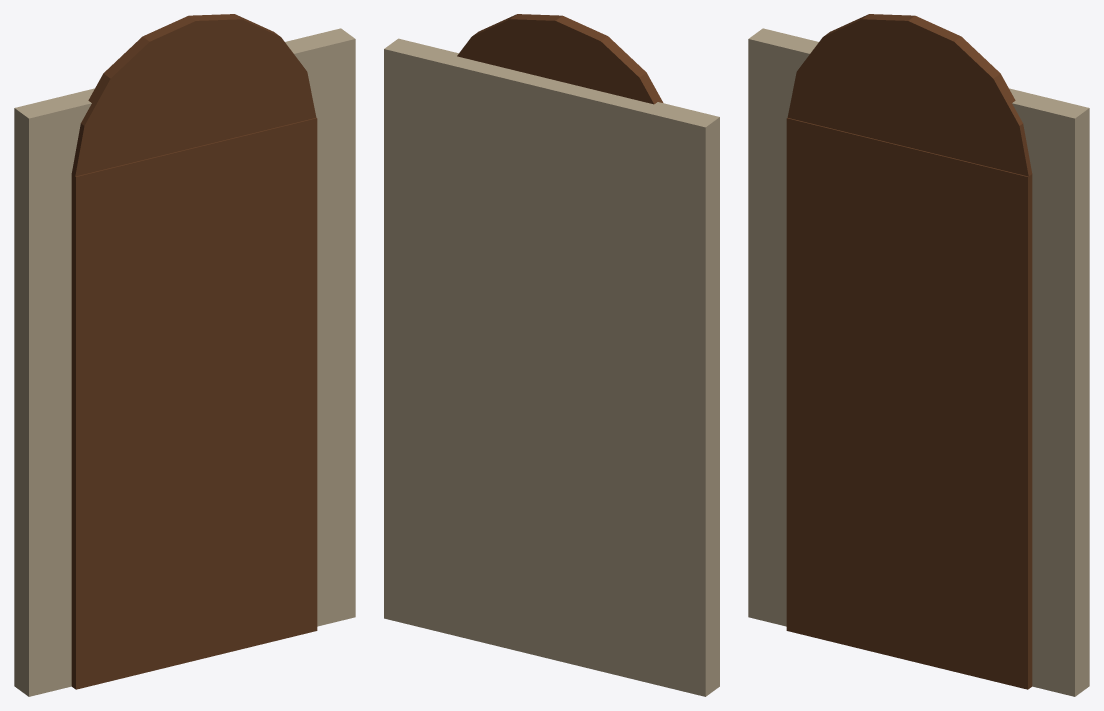
Rendered from porta.glb.
3 views of the same model, side by side, from view 1: azimuth 30°, elevation 25°; view 2: azimuth 150°, elevation 25°; view 3: azimuth 330°, elevation 25° (orthographic).
Parts seen in each view (by area): view 1: porta; view 2: porta; view 3: porta.
Boxes of the visible parts, x1=… form: porta: x1=14, y1=14, x2=355, y2=696; porta: x1=384, y1=14, x2=719, y2=696; porta: x1=748, y1=14, x2=1089, y2=696.
Bounding box in the file's own units: 1.3 × 2.43 × 0.13.
